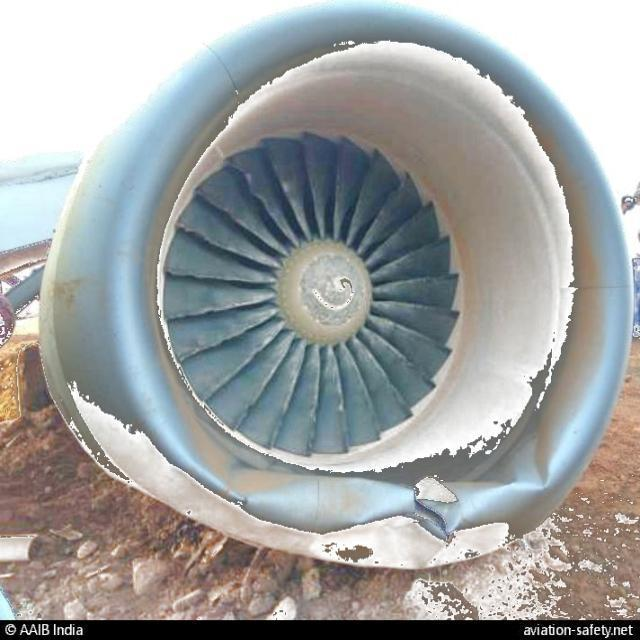dent: (250, 474, 416, 527), (506, 421, 557, 489)
